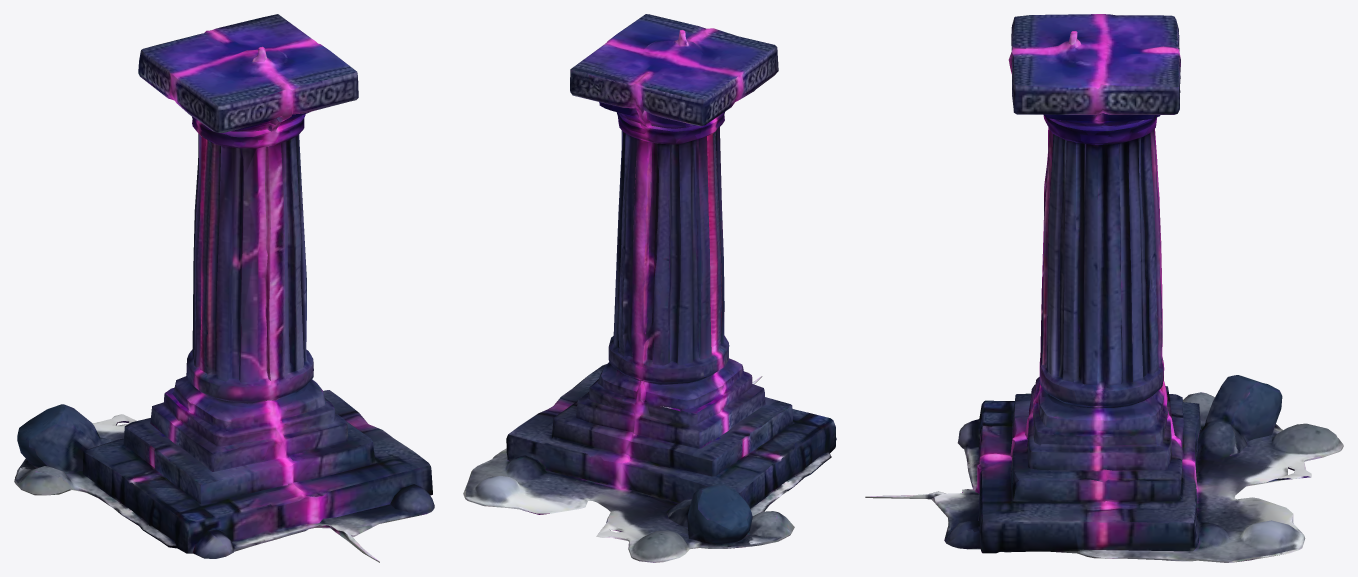
File: yggdrasil-shrine-hvergelmir-left.collider.glb
3 renders of one model, left to right at view 1: azimuth 30°, elevation 25°; view 2: azimuth 150°, elevation 25°; view 3: azimuth 270°, elevation 25°, orthographic. The views are drawn at different scales.
Visible parts, largest first — view 1: temp_mesh.ply; view 2: temp_mesh.ply; view 3: temp_mesh.ply.
Part boxes in pixels (x1=…): temp_mesh.ply: x1=14, y1=14, x2=434, y2=562; temp_mesh.ply: x1=463, y1=14, x2=836, y2=562; temp_mesh.ply: x1=865, y1=14, x2=1343, y2=562.
Size of the model in its own units: 1.5 by 1.97 by 1.86.
1 material, 1 textured.
